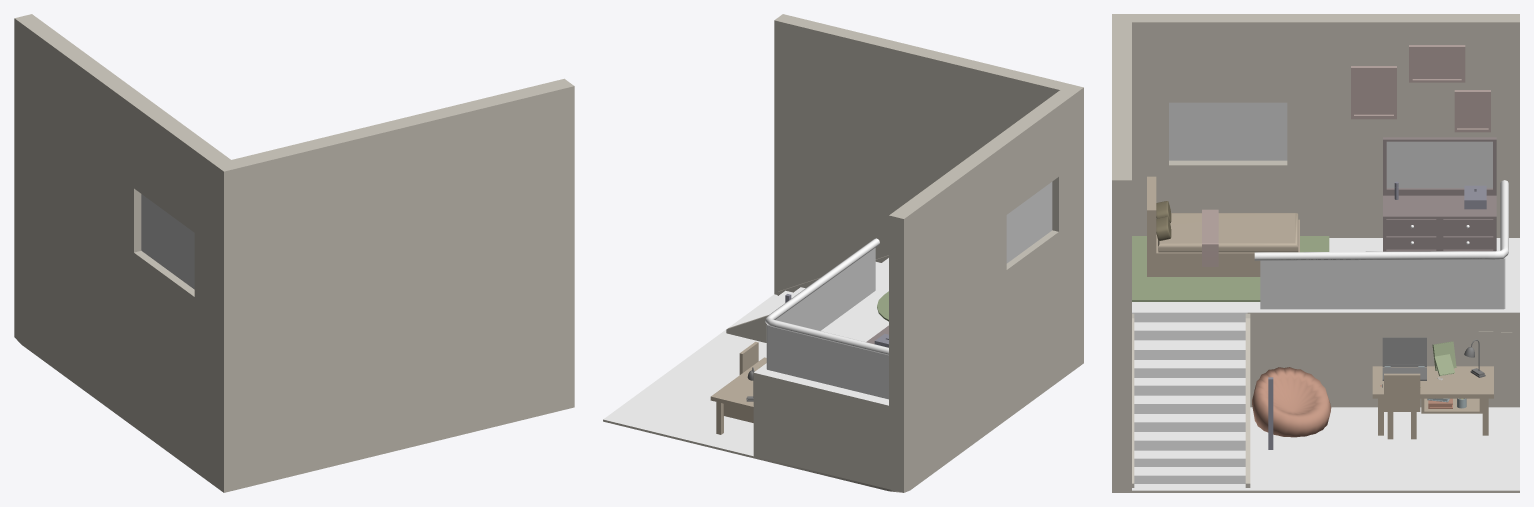
Rendered from Cuartitoti.glb.
3 renders of one model, left to right at view 1: azimuth 30°, elevation 25°; view 2: azimuth 150°, elevation 25°; view 3: azimuth 270°, elevation 25°, orthographic. The views are drawn at different scales.
Parts seen in each view (by area): view 1: TOO, Ventana; view 2: TOO, pPlane1, Ventana, sweep1, MESA, pCube17; view 3: TOO, pCube37, pPlane1, pCube13, Ventana, Piff_feo, Alfombra, MESA, sweep1, pCube34, pCube36, pCube35 (+6 smaller).
Boxes of the visible parts, box(x1,y1,x2,y2) form: TOO: box(14, 14, 574, 492); Ventana: box(141, 194, 194, 289); TOO: box(603, 14, 1083, 492); pPlane1: box(766, 248, 888, 399); Ventana: box(1006, 182, 1052, 263); sweep1: box(765, 238, 888, 355); MESA: box(710, 357, 766, 422); pCube17: box(726, 315, 768, 342); TOO: box(1112, 14, 1519, 492); pCube37: box(1383, 137, 1496, 251); pPlane1: box(1260, 257, 1505, 309); pCube13: box(1147, 176, 1299, 276); Ventana: box(1169, 102, 1287, 160); Piff_feo: box(1252, 367, 1331, 437); Alfombra: box(1132, 236, 1329, 301); MESA: box(1372, 366, 1493, 413); sweep1: box(1254, 180, 1508, 260); pCube34: box(1351, 66, 1396, 119); pCube36: box(1409, 45, 1465, 82); pCube35: box(1454, 90, 1490, 132).
Bounding box in the file's own units: 9.61 × 8.41 × 9.94.
